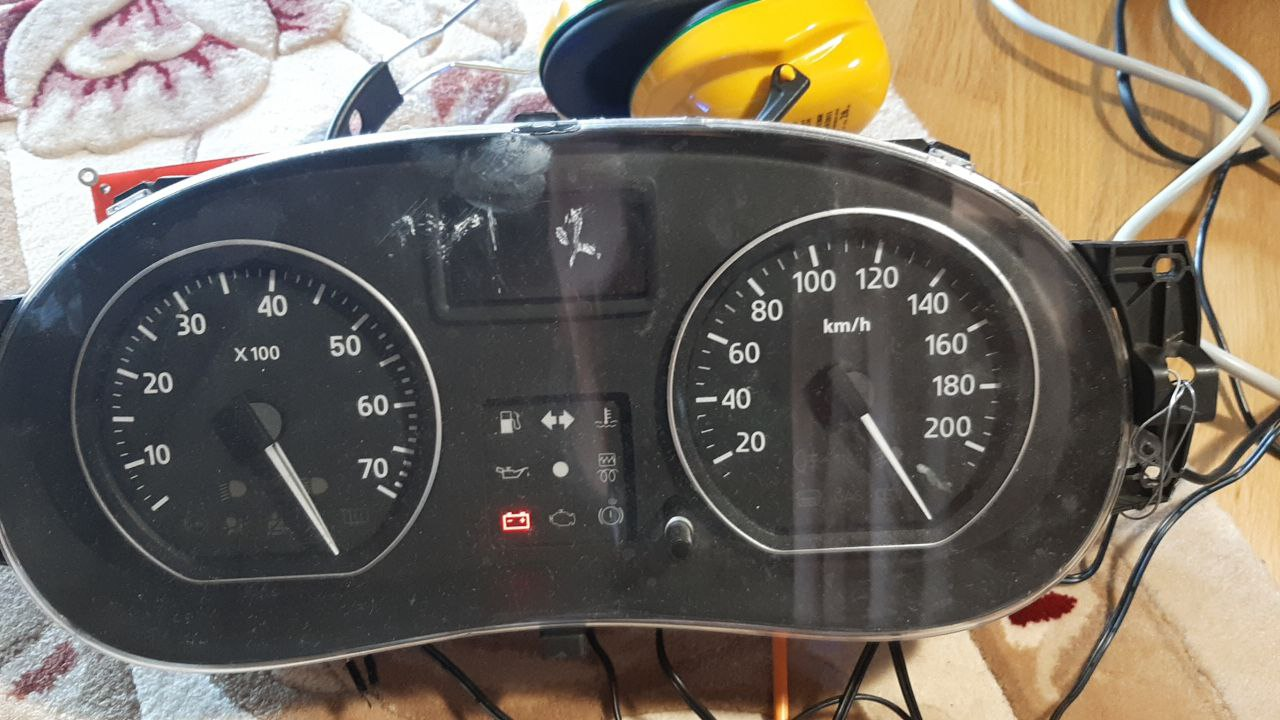accumulator: (498, 511, 535, 531)
